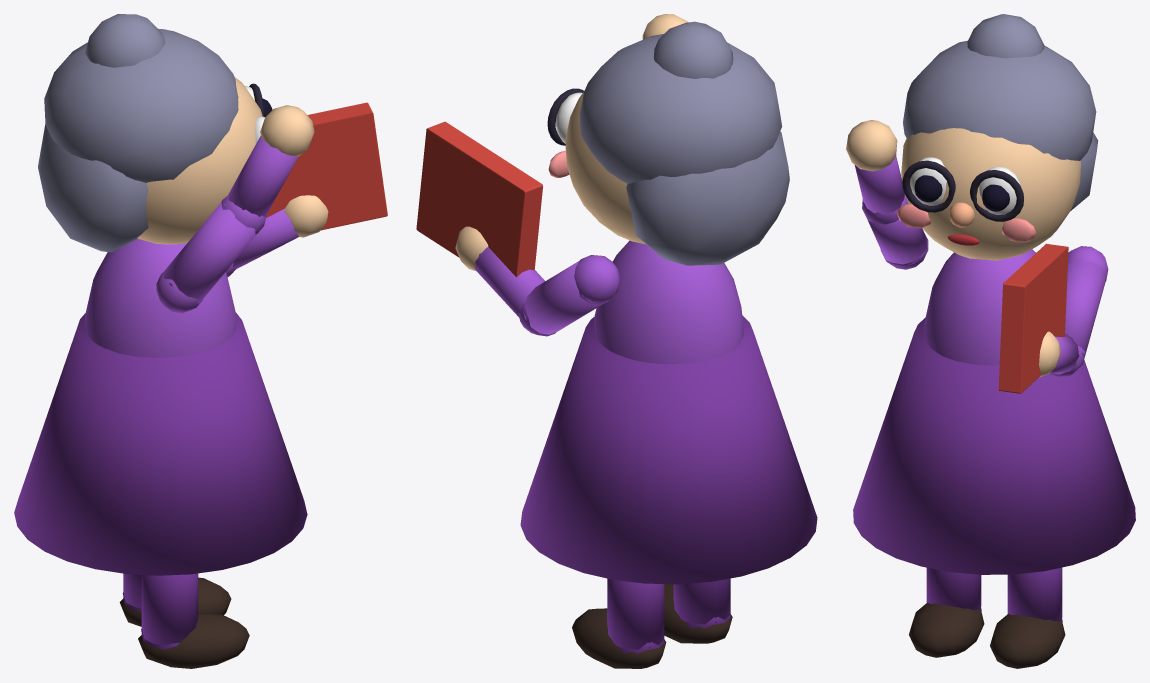
File: knihovnice.glb
3 views of the same model, side by side, from view 1: azimuth 30°, elevation 25°; view 2: azimuth 150°, elevation 25°; view 3: azimuth 270°, elevation 25° (orthographic). The views are drawn at different scales.
Parts seen in each view (by area): view 1: Cone, Sphere.010, Sphere, Cube, Sphere.011, Sphere.001, Cylinder, Cylinder.005, Sphere.025, Sphere.012, Cylinder.001, Sphere.016 (+6 smaller); view 2: Cone, Sphere.010, Sphere, Sphere.011, Cube, Sphere.001, Cylinder.007, Sphere.012, Cylinder.002, Sphere.030, Cylinder.005, Cylinder.003 (+5 smaller); view 3: Cone, Sphere.010, Sphere.001, Sphere, Cube, Sphere.025, Sphere.030, Cylinder.002, Sphere.012, Cylinder.007, Sphere.016, Cylinder.005 (+16 smaller).
Boxes of the visible parts, left/top/right/bottom form: Cone: left=14, top=312, right=307, bottom=575; Sphere.010: left=44, top=28, right=238, bottom=182; Sphere: left=85, top=239, right=236, bottom=357; Cube: left=266, top=102, right=387, bottom=230; Sphere.011: left=38, top=124, right=148, bottom=252; Sphere.001: left=137, top=77, right=262, bottom=244; Cylinder: left=163, top=202, right=259, bottom=303; Cylinder.005: left=141, top=573, right=198, bottom=645; Sphere.025: left=138, top=612, right=249, bottom=668; Sphere.012: left=85, top=14, right=165, bottom=67; Cylinder.001: left=227, top=135, right=298, bottom=216; Sphere.016: left=260, top=105, right=314, bottom=156; Cone: left=520, top=315, right=817, bottom=584; Sphere.010: left=579, top=34, right=782, bottom=183; Sphere: left=594, top=240, right=743, bottom=364; Sphere.011: left=626, top=131, right=789, bottom=265; Cube: left=416, top=121, right=542, bottom=277; Sphere.001: left=565, top=91, right=645, bottom=244; Cylinder.007: left=607, top=578, right=664, bottom=649; Sphere.012: left=654, top=21, right=733, bottom=78; Cylinder.002: left=523, top=260, right=608, bottom=334; Sphere.030: left=572, top=608, right=666, bottom=668; Cylinder.005: left=673, top=578, right=730, bottom=624; Cylinder.003: left=474, top=247, right=544, bottom=317; Cone: left=853, top=317, right=1135, bottom=574; Sphere.010: left=903, top=40, right=1096, bottom=160; Sphere.001: left=901, top=128, right=1080, bottom=260; Sphere: left=924, top=249, right=1035, bottom=365; Cube: left=998, top=243, right=1068, bottom=393; Sphere.025: left=909, top=602, right=984, bottom=657; Sphere.030: left=990, top=614, right=1065, bottom=668; Cylinder.002: left=1065, top=259, right=1106, bottom=357; Sphere.012: left=967, top=14, right=1044, bottom=58; Cylinder.007: left=1007, top=567, right=1062, bottom=621; Sphere.016: left=846, top=120, right=897, bottom=171; Cylinder.005: left=926, top=567, right=981, bottom=610.
Size of the model in its own units: 0.8122 by 1.36 by 0.5818.
